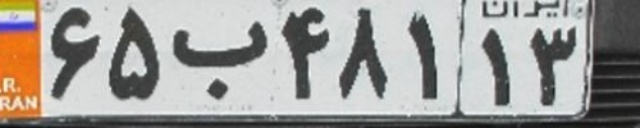1: (403, 13, 446, 101), (480, 24, 516, 106)
3: (529, 26, 577, 105)
4: (278, 5, 330, 100)
5: (107, 7, 164, 100)
6: (47, 6, 101, 99)
8: (338, 6, 392, 99)
be: (170, 21, 271, 100)
